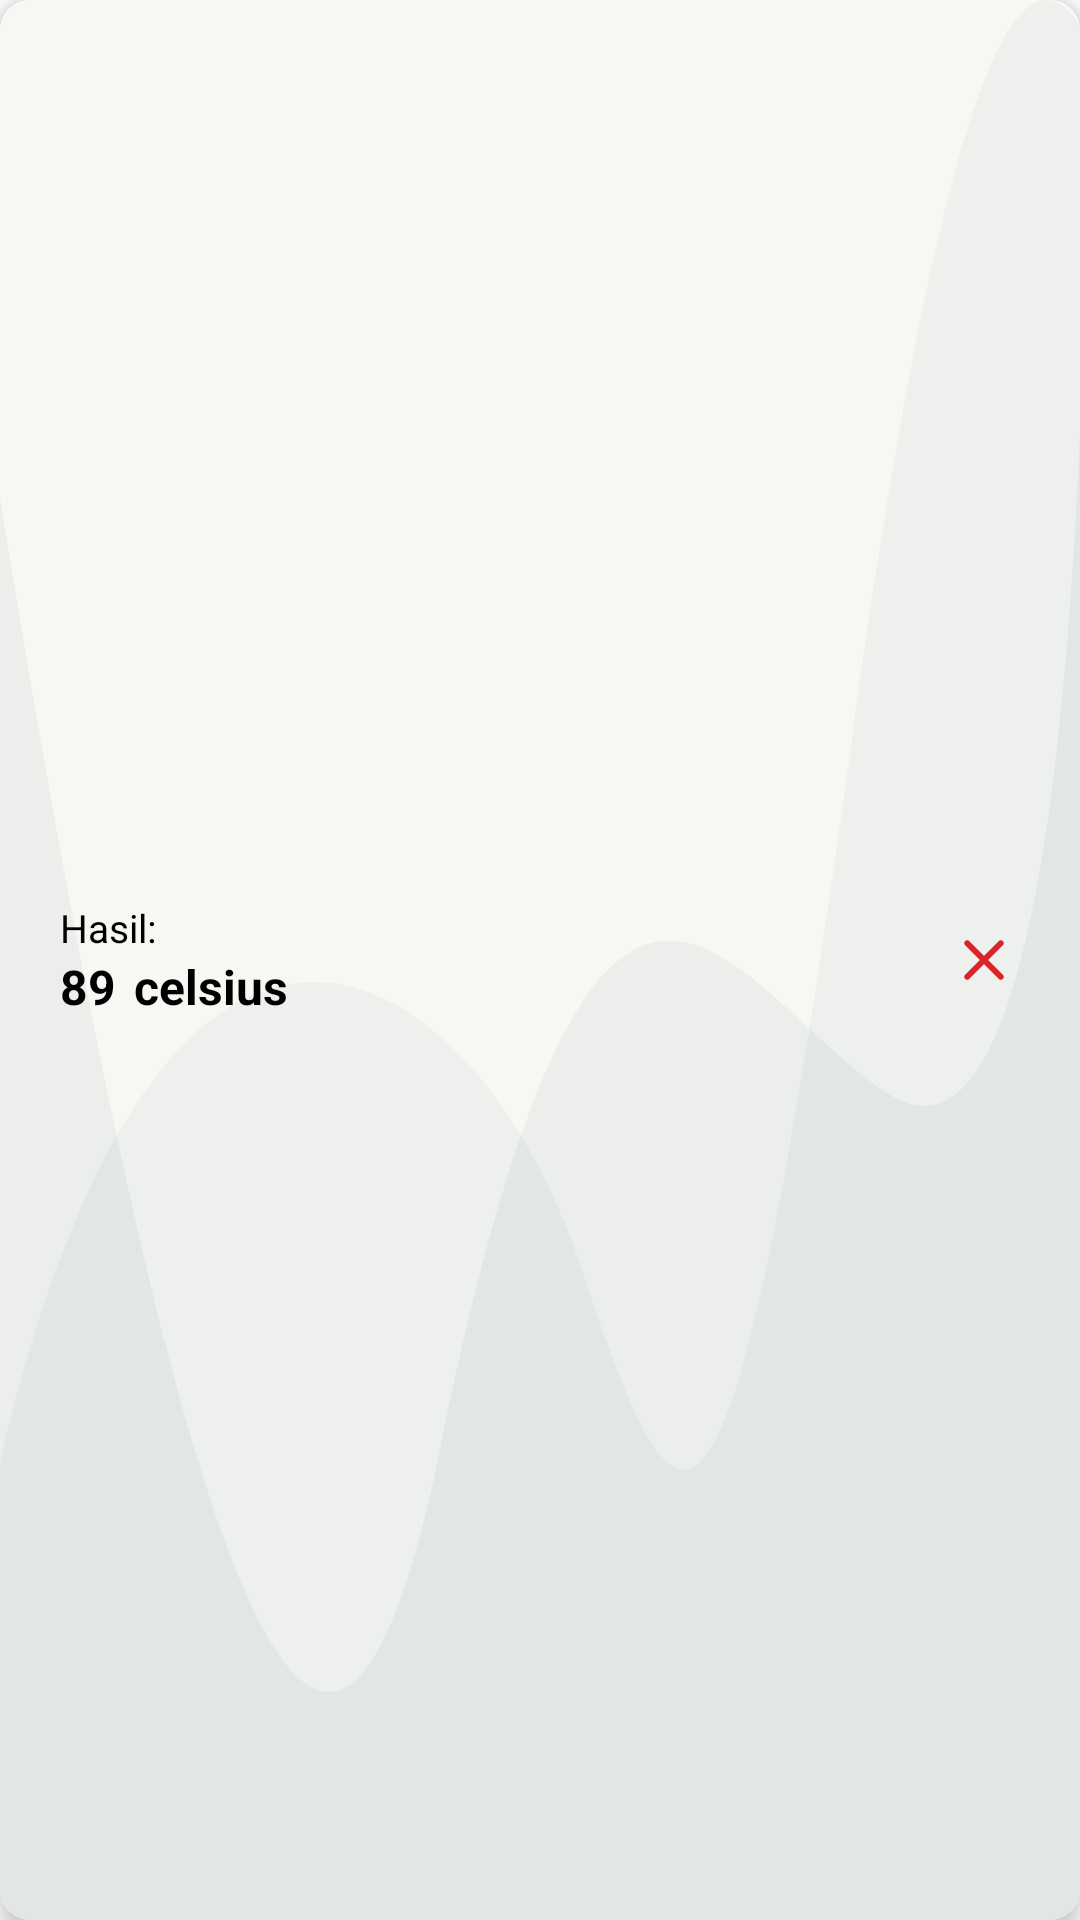

Icon bounding boxes for this 1080 x 1920 phone screenshot, format (x1, y1, x2, y2):
delete: (964, 940, 1004, 980)
